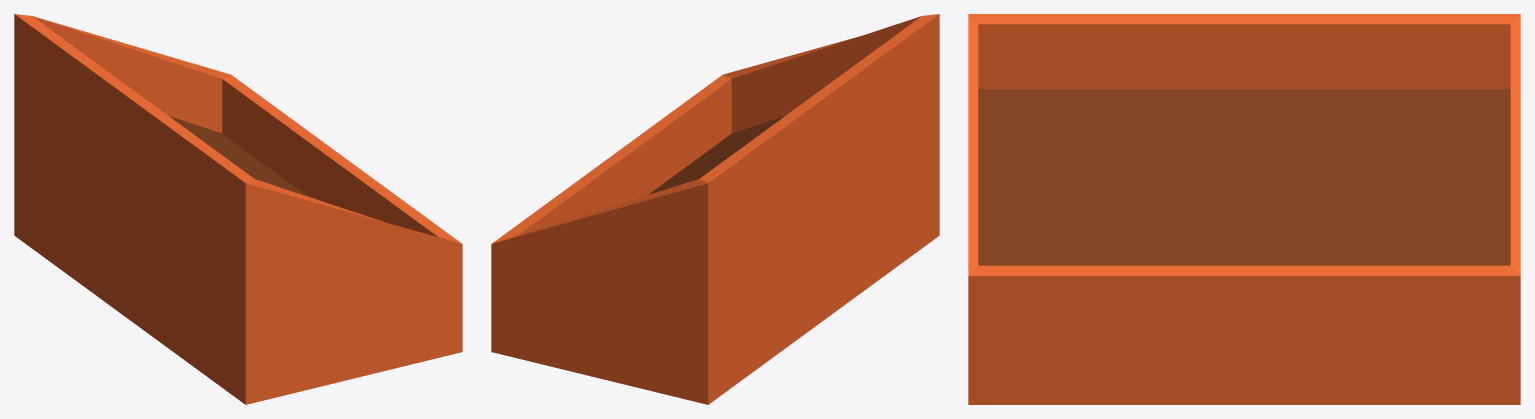
The model's file is fruit-table(1).fbx.
The picture shows the model from 3 angles, left to right: view 1: azimuth 30°, elevation 25°; view 2: azimuth 150°, elevation 25°; view 3: azimuth 270°, elevation 25°; orthographic projection. The views are drawn at different scales.
Parts seen in each view (by area): view 1: pCube947.001; view 2: pCube947.001; view 3: pCube947.001.
Boxes of the visible parts, x1,y1,x2,y2 form: pCube947.001: [14, 14, 462, 404]; pCube947.001: [491, 14, 939, 404]; pCube947.001: [968, 14, 1520, 404].
Size of the model in its own units: 100 by 97.73 by 185.
